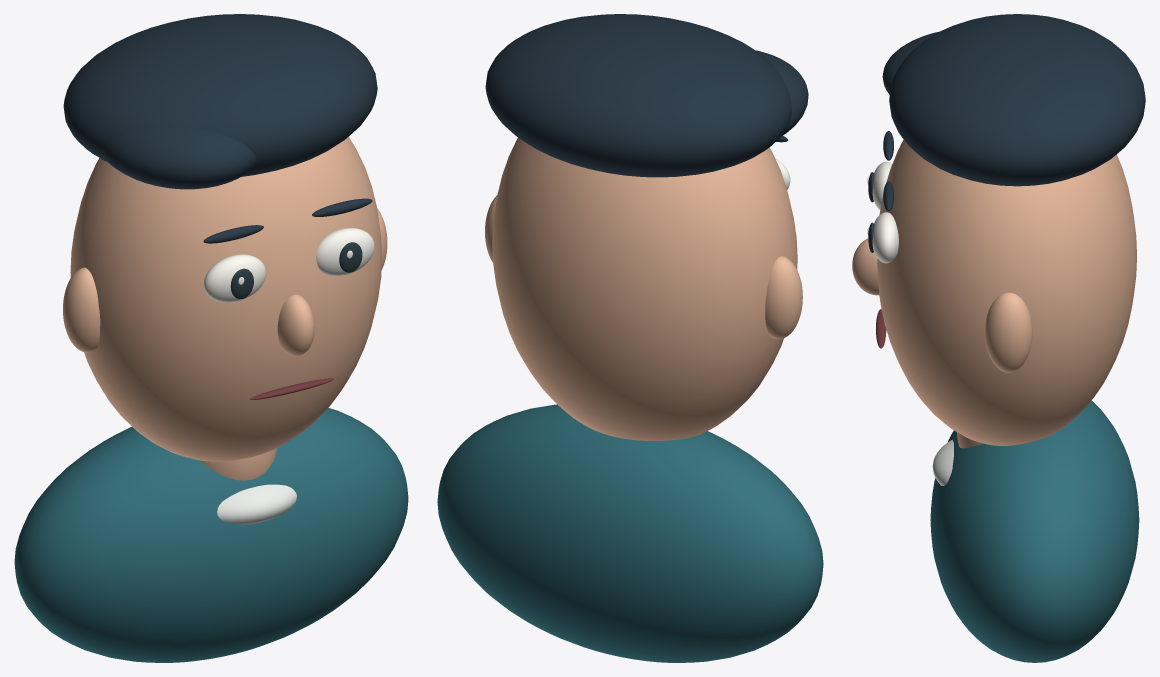
File: ipp31078-cartoon-v2.glb
The picture shows the model from 3 angles, left to right: view 1: azimuth 30°, elevation 25°; view 2: azimuth 150°, elevation 25°; view 3: azimuth 270°, elevation 25°; orthographic projection. The views are drawn at different scales.
Visible parts, largest first — view 1: torso, head, hair, hair_part, ear_right, collar, nose, eye_right_white, eye_left_white, neck, brow_right, brow_left; view 2: torso, head, hair, ear_right, hair_part; view 3: head, torso, hair, ear_left, eye_left_white, nose, hair_part, collar, eye_right_white.
Boxes of the visible parts, left/top/right/bottom form: torso: left=14, top=408, right=408, bottom=662; head: left=70, top=137, right=381, bottom=461; hair: left=63, top=14, right=377, bottom=176; hair_part: left=101, top=127, right=256, bottom=189; ear_right: left=63, top=267, right=100, bottom=352; collar: left=217, top=484, right=296, bottom=524; nose: left=277, top=294, right=314, bottom=356; eye_right_white: left=204, top=254, right=265, bottom=302; eye_left_white: left=316, top=228, right=374, bottom=276; neck: left=200, top=448, right=276, bottom=480; brow_right: left=203, top=225, right=263, bottom=243; brow_left: left=312, top=198, right=372, bottom=216; torso: left=437, top=404, right=823, bottom=662; head: left=492, top=138, right=797, bottom=440; hair: left=485, top=14, right=791, bottom=177; ear_right: left=765, top=256, right=802, bottom=338; hair_part: left=756, top=50, right=808, bottom=136; head: left=877, top=139, right=1136, bottom=445; torso: left=930, top=400, right=1139, bottom=662; hair: left=889, top=14, right=1145, bottom=186; ear_left: left=985, top=292, right=1032, bottom=372; eye_left_white: left=872, top=212, right=898, bottom=263; nose: left=852, top=238, right=879, bottom=295; hair_part: left=882, top=31, right=939, bottom=94; collar: left=932, top=439, right=953, bottom=485; eye_right_white: left=872, top=161, right=892, bottom=209.
Size of the model in its own units: 1.92 by 2.98 by 1.35.
